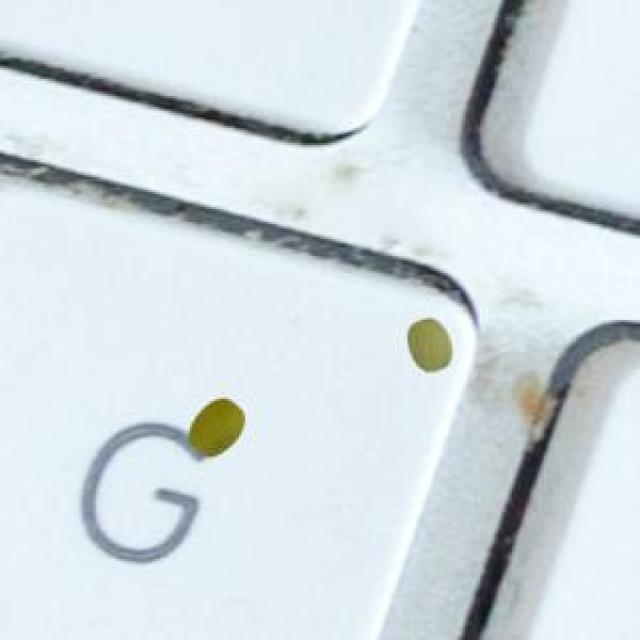Decolgen: (180, 385, 253, 467), (396, 311, 464, 385)
